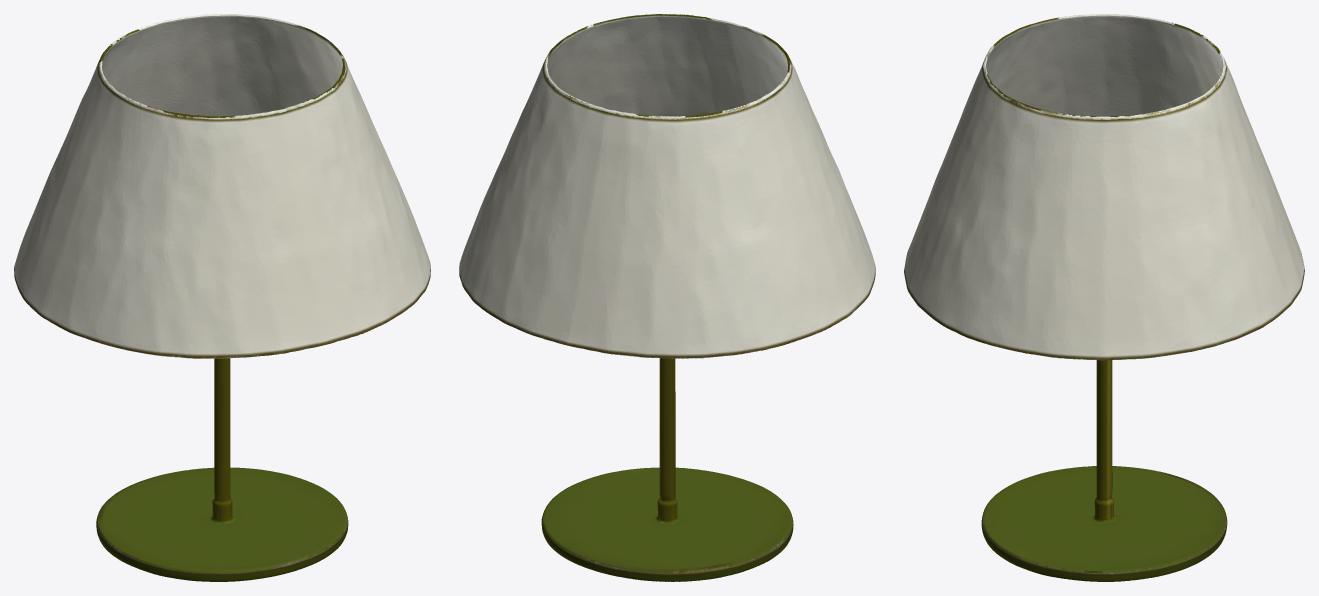
The picture shows the model from 3 angles, left to right: view 1: azimuth 30°, elevation 25°; view 2: azimuth 150°, elevation 25°; view 3: azimuth 270°, elevation 25°; orthographic projection.
Visible parts, largest first — view 1: tmpv0w921qg.ply; view 2: tmpv0w921qg.ply; view 3: tmpv0w921qg.ply.
Part boxes in pixels (box(x1,y1,x2,y2)): tmpv0w921qg.ply: box(14, 14, 430, 581); tmpv0w921qg.ply: box(459, 14, 875, 581); tmpv0w921qg.ply: box(904, 14, 1304, 581).
Bounding box in the file's own units: 0.816 × 1 × 0.7814.
Materials: 1 (1 with a texture image).
